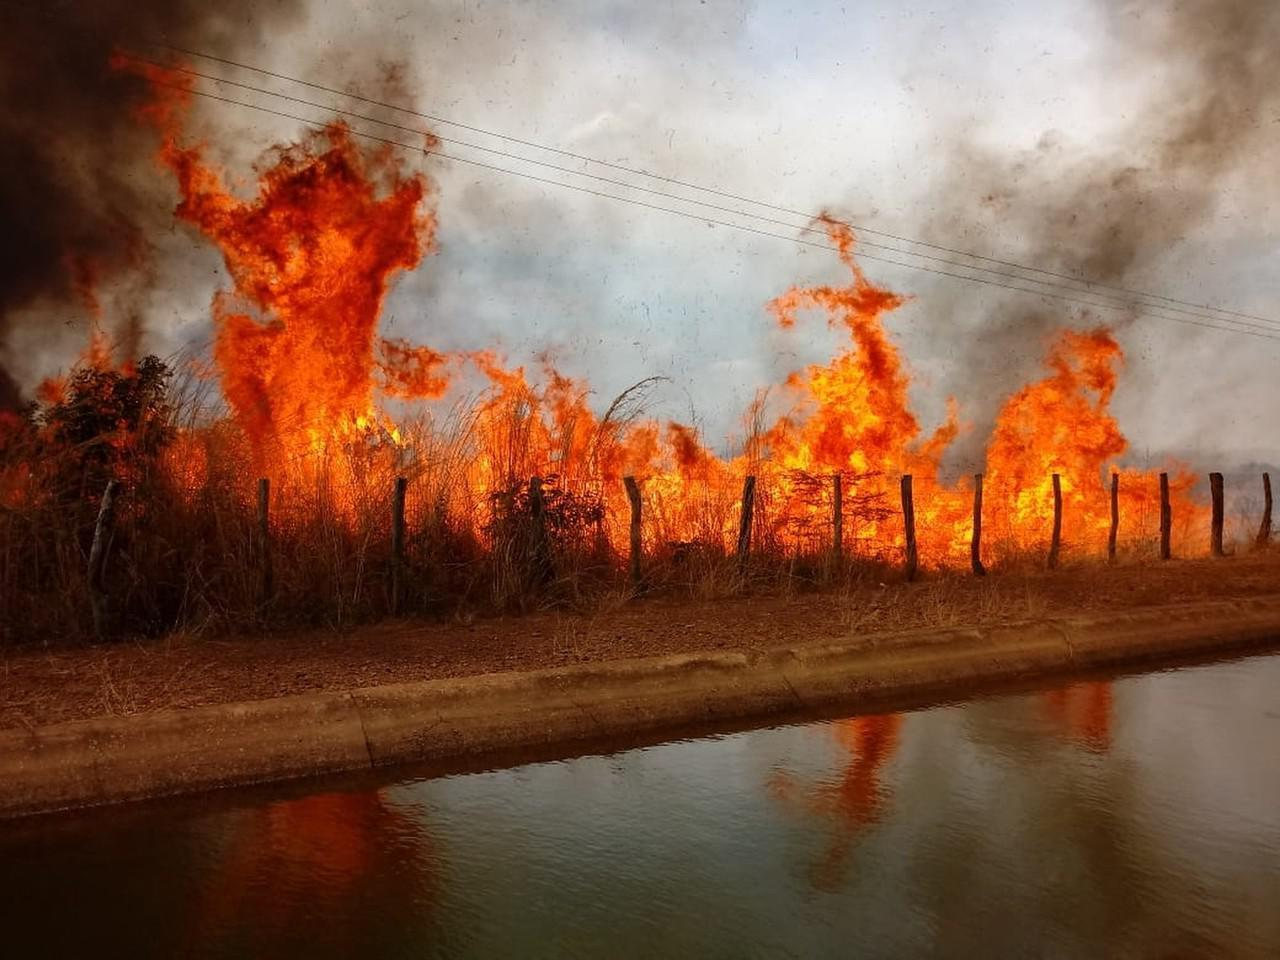Fire: (13, 109, 1227, 578)
